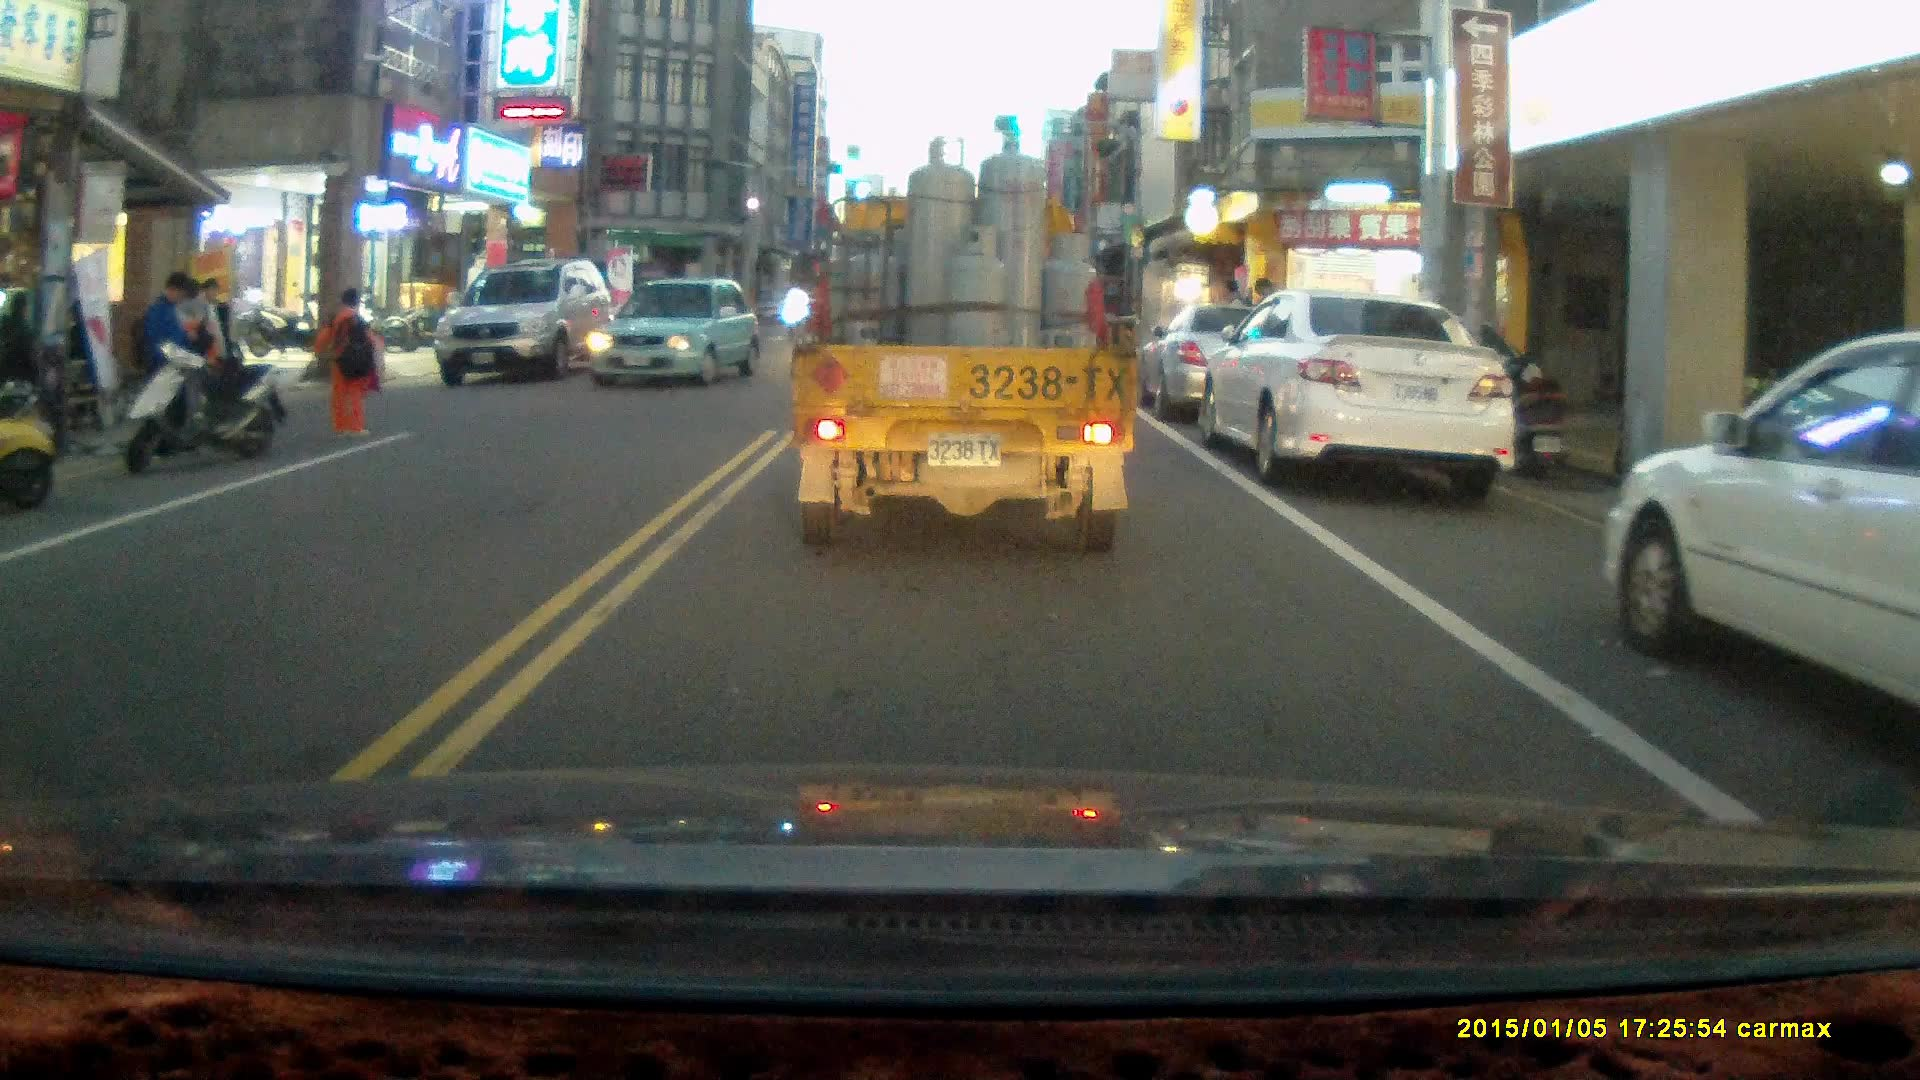pedestrian: (125, 271, 203, 452), (313, 284, 382, 436), (0, 289, 42, 450), (195, 276, 236, 404)
vehicle: (789, 127, 1146, 558), (1616, 328, 1920, 722), (1202, 285, 1517, 496), (1141, 299, 1370, 429), (439, 260, 616, 391), (585, 278, 769, 393)
